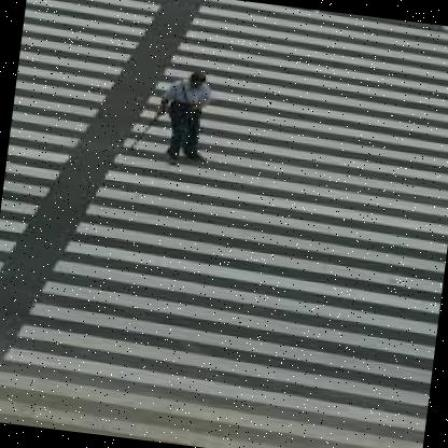silver: (127, 66, 215, 170)
